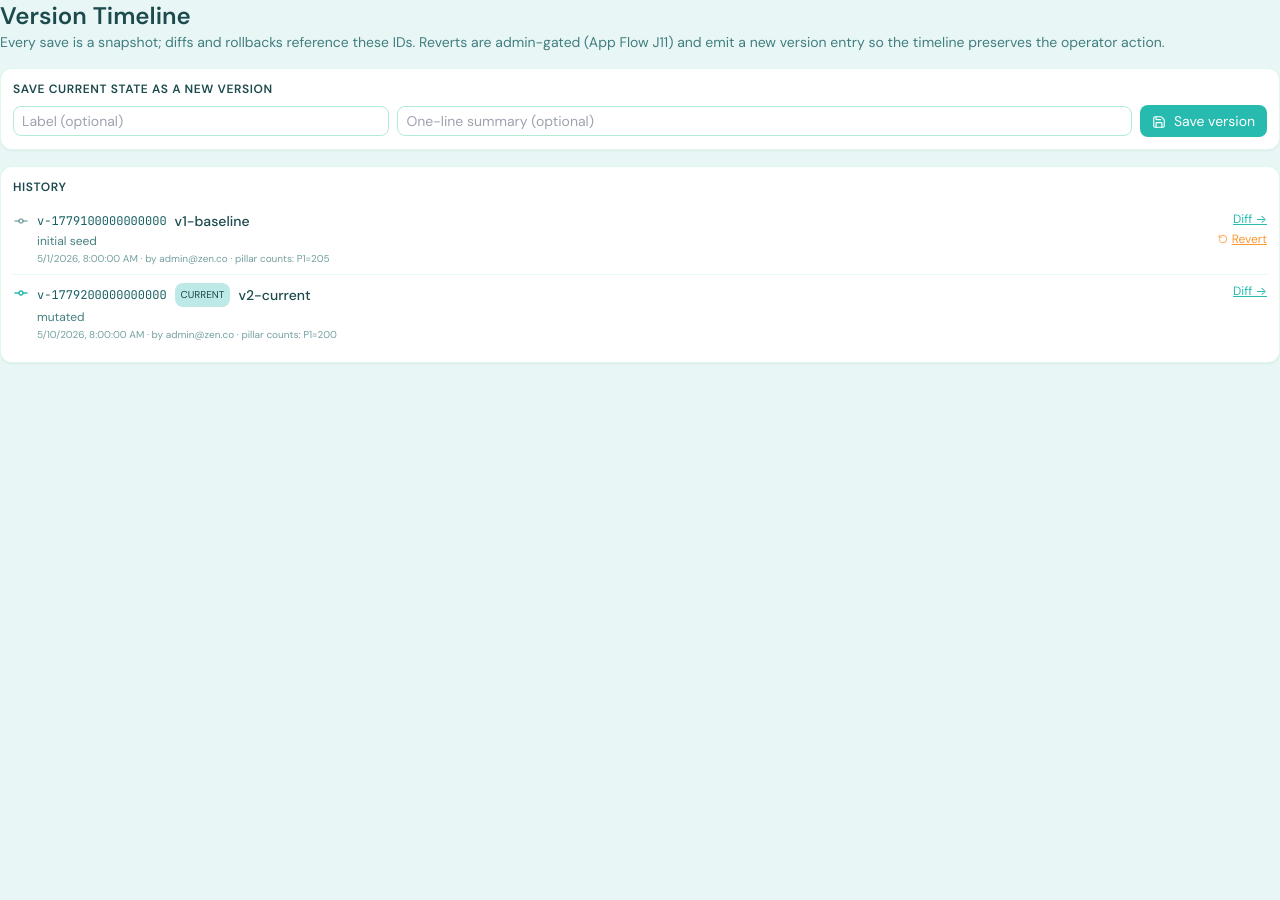
it: VersionTimeline + revert › opens revert modal and surfaces the preview deltas
The image size is (1280, 900).
Expected: the text "v1-baseline" is shown, [175,211,250,231]
Click the button with aria-label "revert to v-1779100000000000". click: (1242, 239)
box: [1218,231,1267,247]
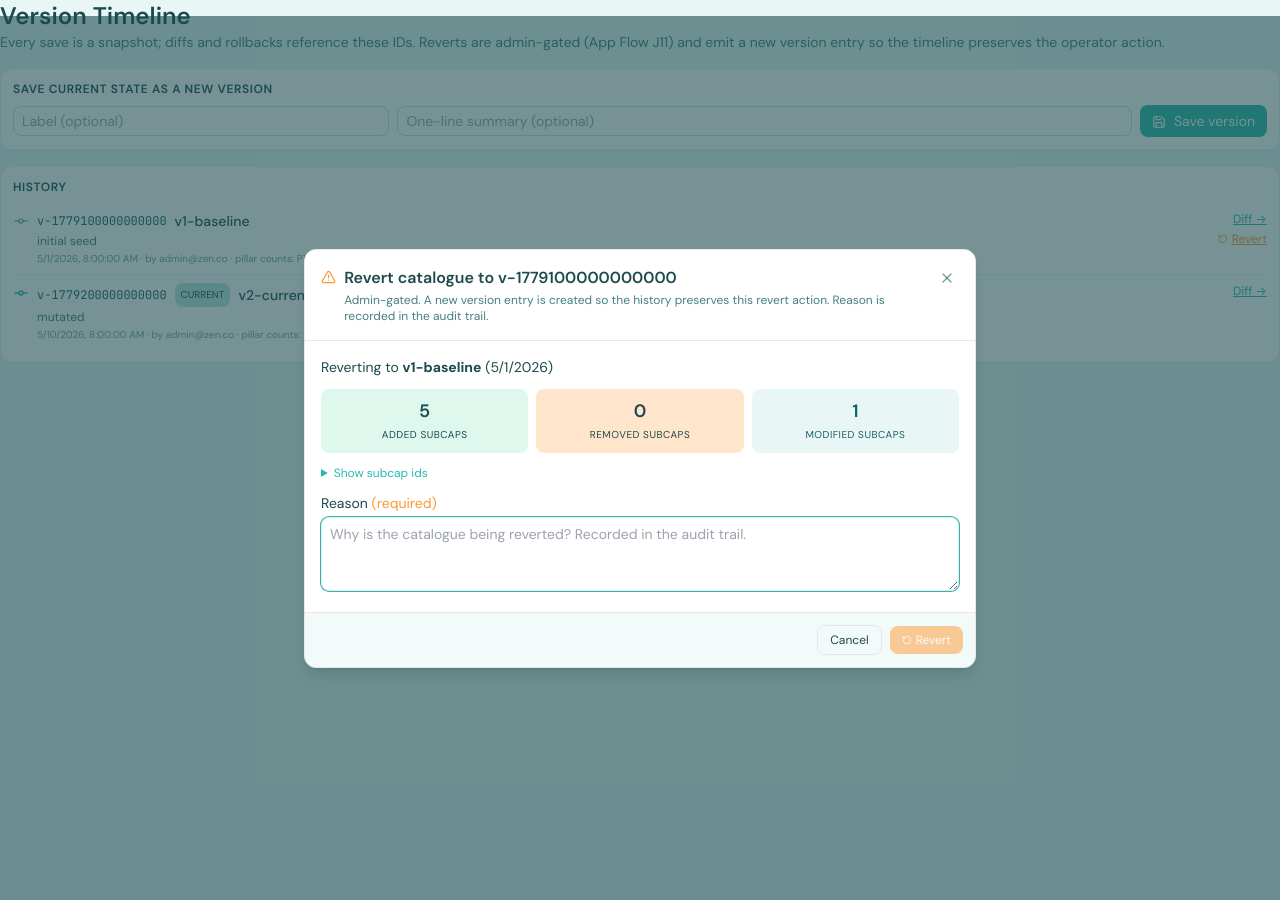
Now the heading "Revert catalogue to v-1779100000000000" is shown, box [344,266,677,288]
Now the text "5" is shown, box [419,398,430,422]
Now the text "1" is shown, box [852,398,858,422]
